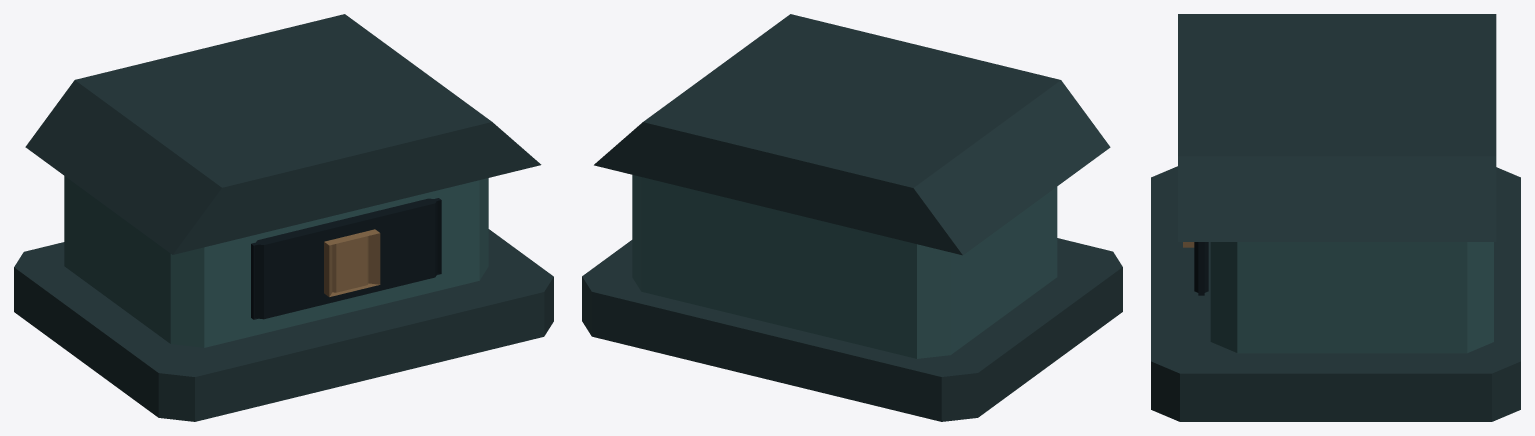
Rendered from shrine_plinth.glb.
3 renders of one model, left to right at view 1: azimuth 30°, elevation 25°; view 2: azimuth 150°, elevation 25°; view 3: azimuth 270°, elevation 25°, orthographic. The views are drawn at different scales.
Parts seen in each view (by area): view 1: body; view 2: body; view 3: body.
Boxes of the visible parts, x1,y1,x2,y2 form: body: (14, 14, 553, 421); body: (582, 14, 1122, 421); body: (1151, 14, 1520, 421).
Size of the model in its own units: 2.4 by 1.25 by 1.8.
